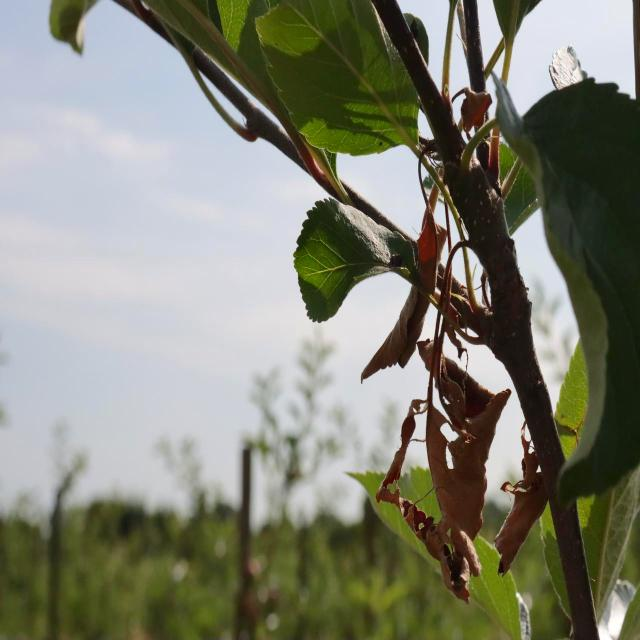-FireBlight-: (376, 293, 550, 606)
